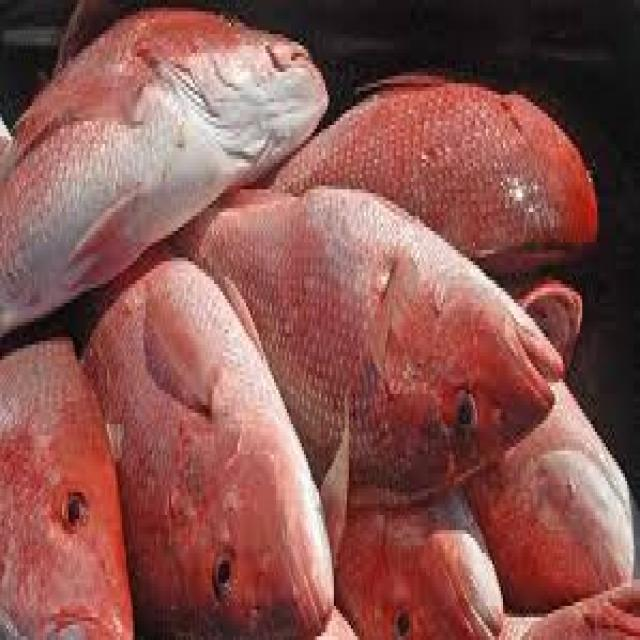northern-red-snapper: (197, 168, 550, 498), (85, 256, 340, 640), (4, 0, 317, 307), (320, 42, 606, 302), (482, 314, 640, 609), (0, 318, 141, 640), (323, 450, 523, 640)
